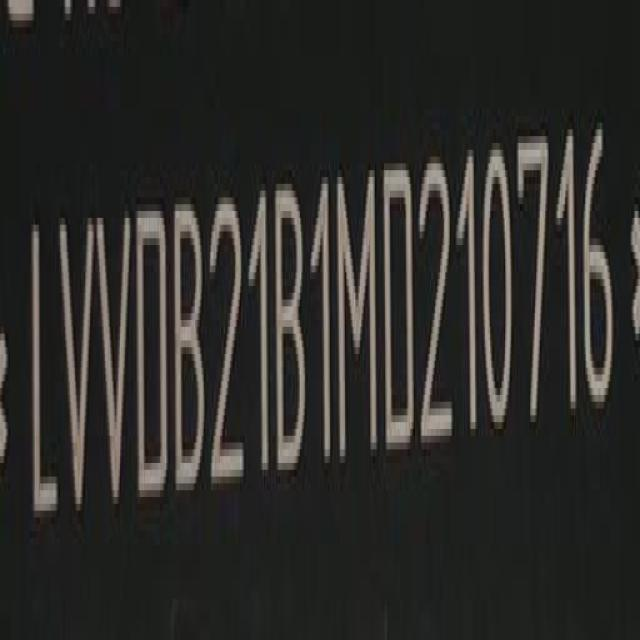0: (483, 145, 515, 444)
1: (310, 170, 334, 478), (252, 190, 273, 492), (555, 124, 575, 431), (460, 149, 479, 448)
2: (210, 194, 247, 499), (420, 152, 455, 458)
6: (585, 116, 618, 418)
7: (521, 123, 552, 433)
B: (176, 198, 209, 502), (278, 180, 307, 485)
D: (386, 160, 421, 466), (134, 200, 168, 510)
L: (27, 214, 58, 536)
M: (339, 168, 380, 471)
V: (97, 208, 135, 520), (57, 214, 94, 526)
